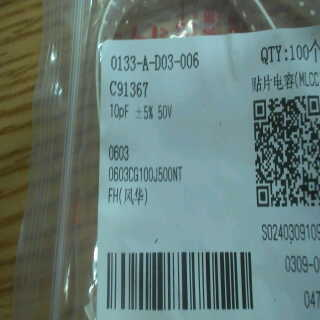10pF: (107, 100, 131, 122)
